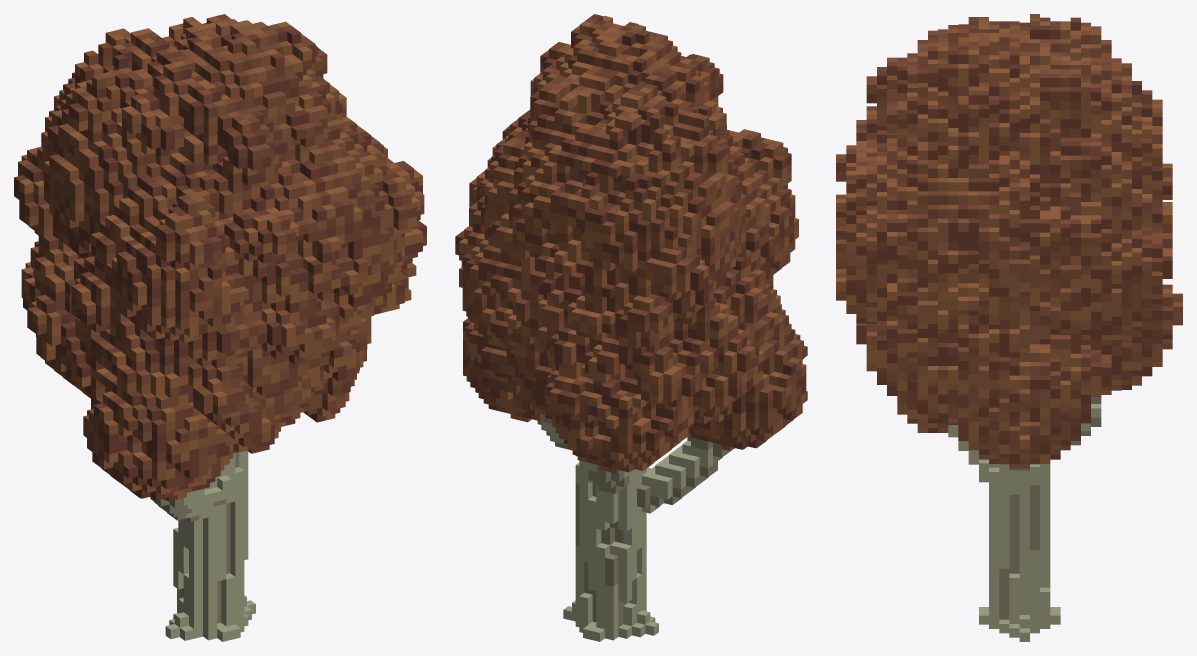
The model's file is tree.gltf.
3 renders of one model, left to right at view 1: azimuth 30°, elevation 25°; view 2: azimuth 150°, elevation 25°; view 3: azimuth 270°, elevation 25°, orthographic. The views are drawn at different scales.
Visible parts, largest first — view 1: Node; view 2: Node; view 3: Node.
Part boxes in pixels (<box>): Node: <box>14,14,426,641</box>; Node: <box>455,14,807,641</box>; Node: <box>836,14,1182,641</box>.
Size of the model in its own units: 3.5 by 6.4 by 3.4.
1 material, 1 textured.
